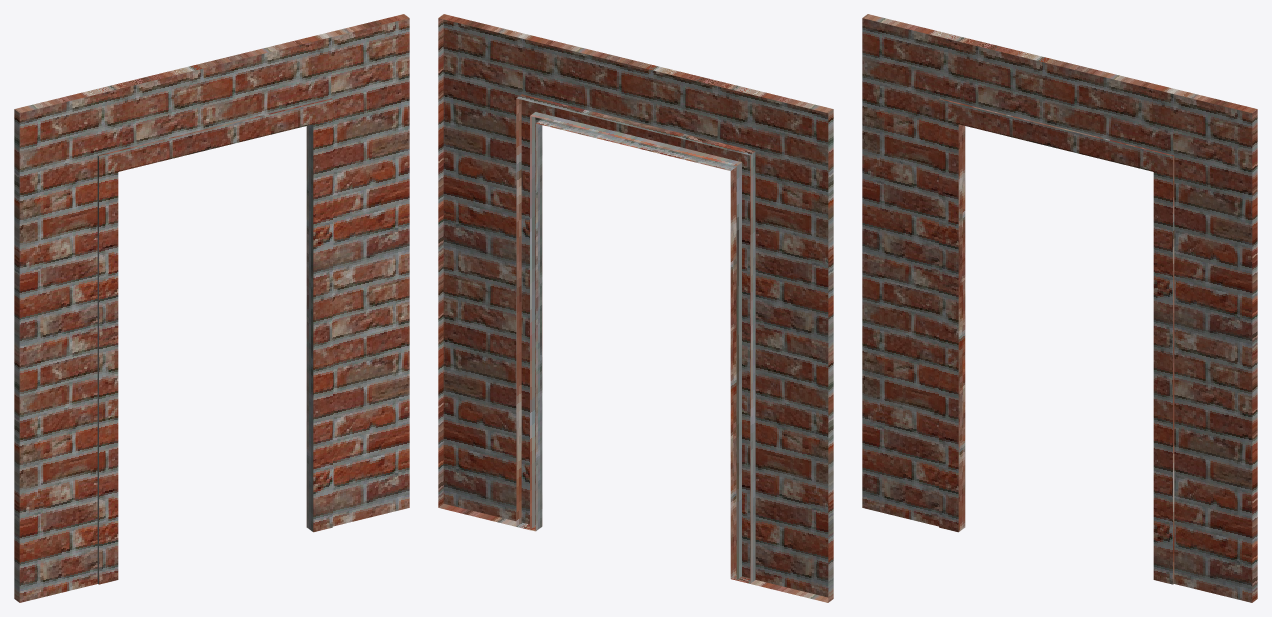
File: doorway6.glb
The picture shows the model from 3 angles, left to right: view 1: azimuth 30°, elevation 25°; view 2: azimuth 150°, elevation 25°; view 3: azimuth 330°, elevation 25°; orthographic projection.
Parts seen in each view (by area): view 1: doorway6; view 2: doorway6; view 3: doorway6.
Boxes of the visible parts, x1,y1,x2,y2 form: doorway6: (14, 14, 409, 602); doorway6: (438, 14, 833, 602); doorway6: (862, 14, 1257, 602).
Size of the model in its own units: 2 by 2.4 by 0.06.
1 material, 1 textured.
